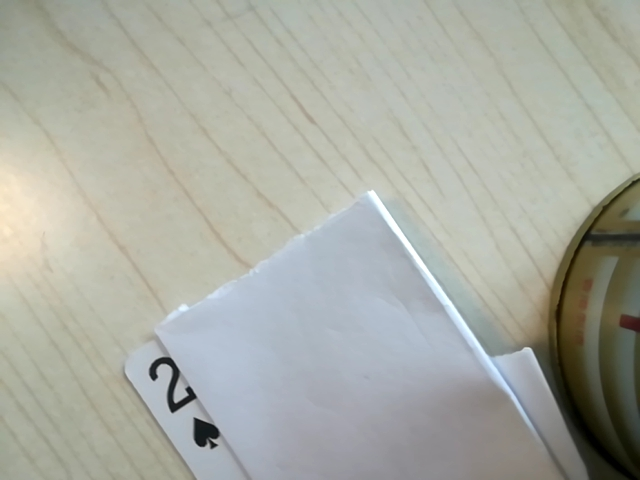ht 2: (138, 335, 225, 466)
